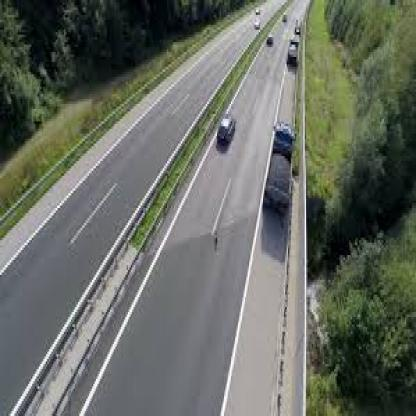car: (256, 107, 304, 230), (214, 108, 244, 152), (288, 42, 298, 77), (266, 32, 278, 58)
